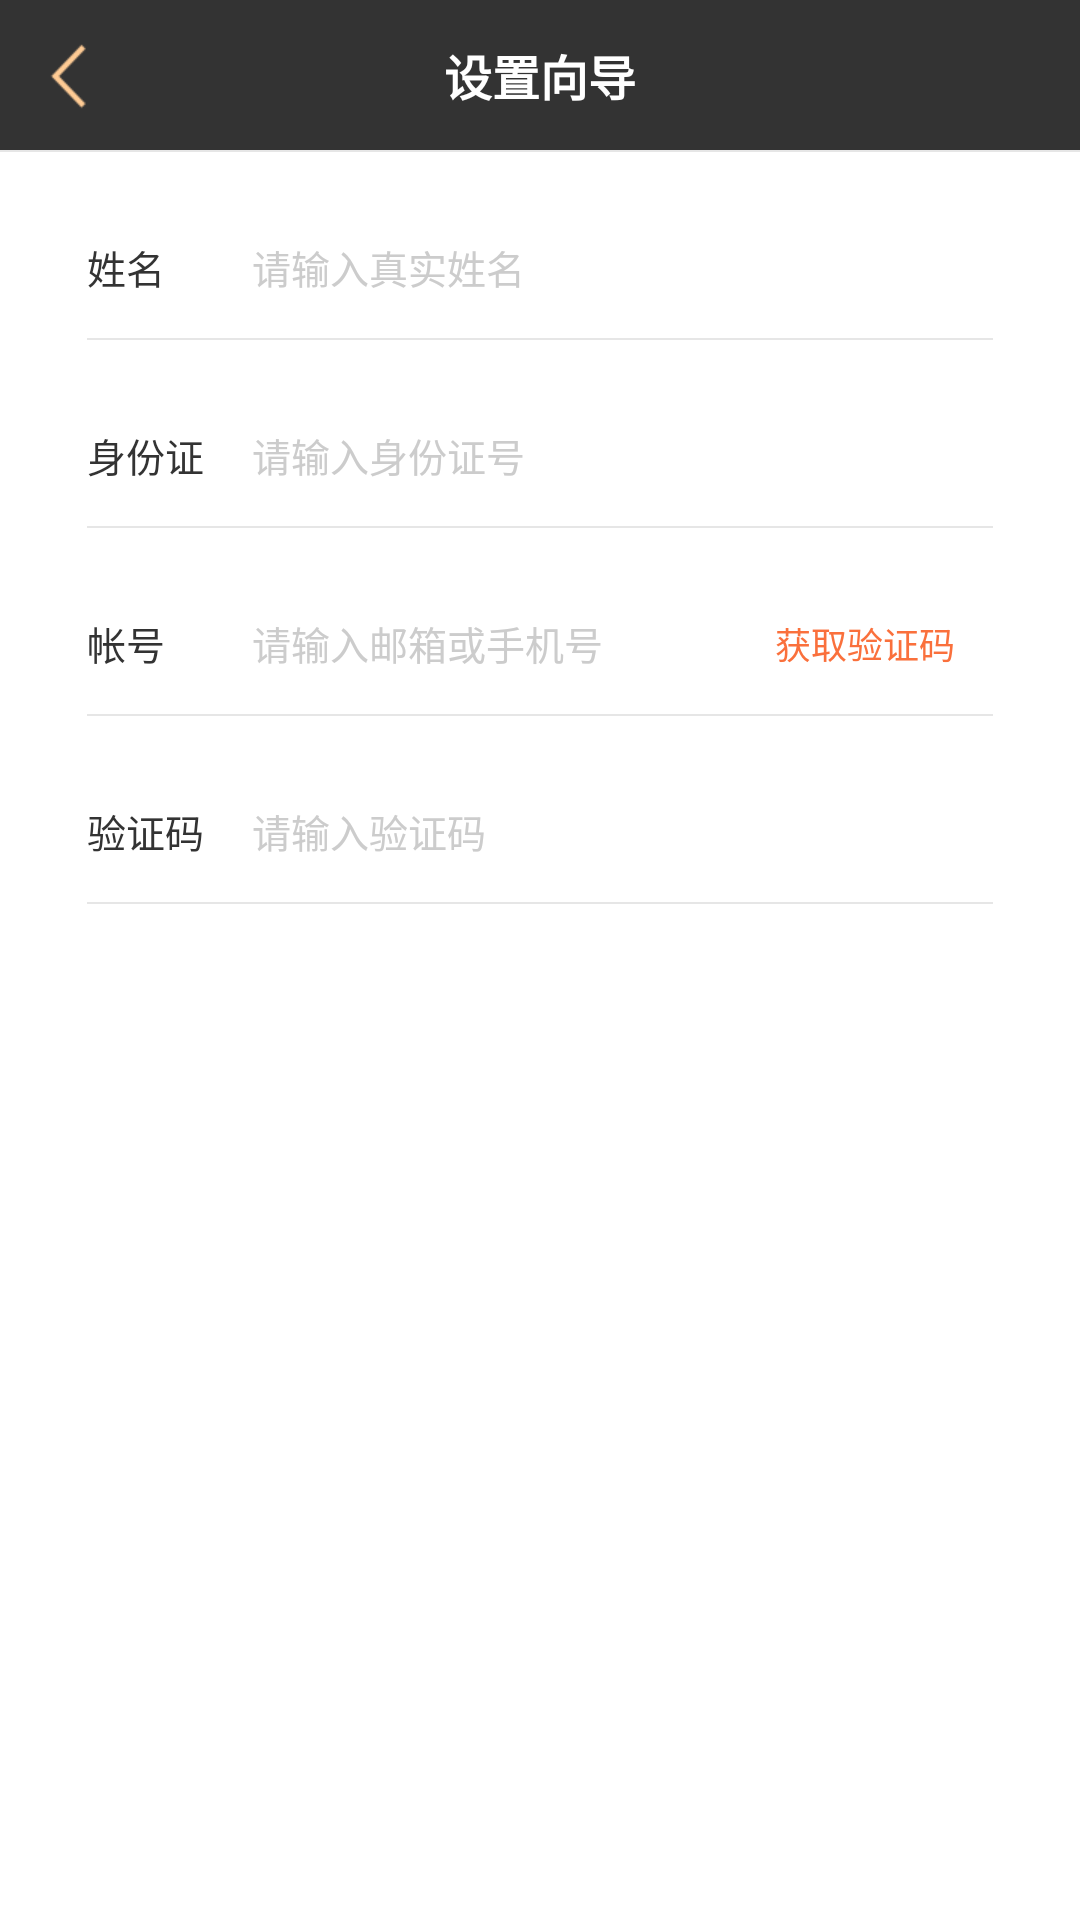

Named icons in this screenshot (1080px x 1920px) and their bounding boxes, (x1, y1, x2, y2):
left back: (51, 45, 86, 108)
